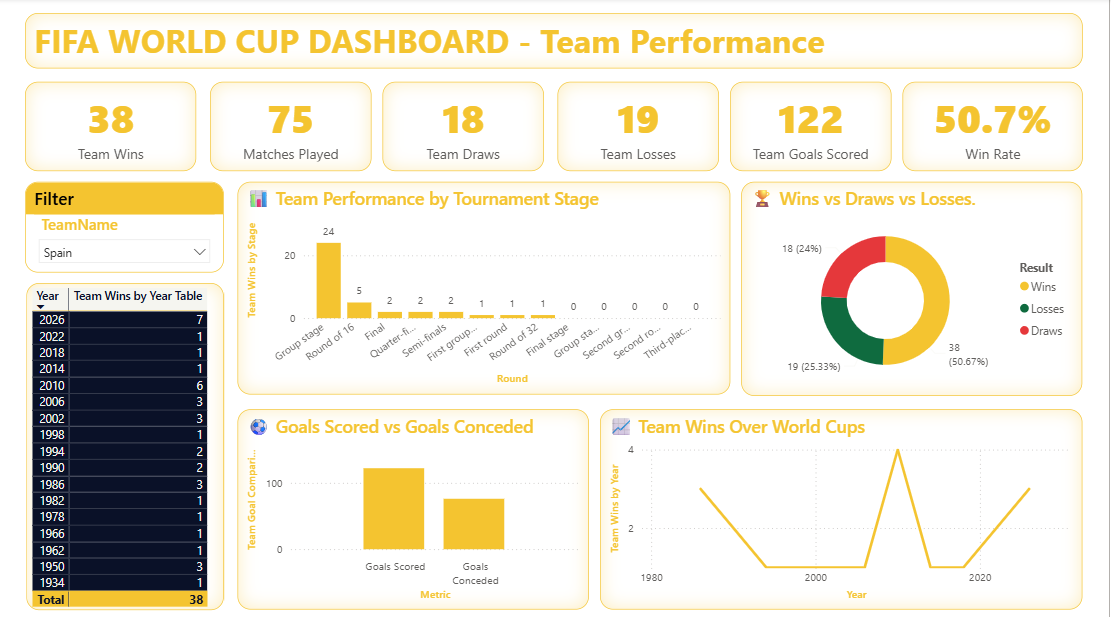

This screenshot's page, from the dashboard's own definition file:
{"tool":"powerbi","page":{"name":"Team Performance Analysis","canvas":[1280,720],"ordinal":1},"visuals":[{"type":"slicer","title":"Filter","fields":{"Values":["DimTeam.TeamName"]},"box":[28.5,211.8,229.6,105],"z":0},{"type":"card","fields":{"Values":["DimReferee.Matches Played"]},"box":[242,96,186,103],"z":1000},{"type":"card","fields":{"Values":["DimReferee.Team Wins"]},"box":[28.5,96.1,197.6,103.2],"z":2000},{"type":"card","fields":{"Values":["DimReferee.Team Draws"]},"box":[442,96,186,103],"z":3000},{"type":"card","fields":{"Values":["DimReferee.Team Losses"]},"box":[642.8,96,186,103],"z":4000},{"type":"card","fields":{"Values":["DimReferee.Team Goals Scored"]},"box":[842,96,186,103],"z":5000},{"type":"card","fields":{"Values":["DimReferee.Win Rate"]},"box":[1041.2,96.1,208.2,103],"z":6000},{"type":"lineChart","title":"📈 Team Wins Over World Cups","fields":{"Category":["DimWorldCup.Year"],"Y":["DimReferee.Team Wins by Year"]},"box":[692.3,475.2,557.1,231.4],"z":7000},{"type":"donutChart","title":"🏆 Wins vs Draws vs Losses.","fields":{"Category":["Result.Result"],"Y":["DimReferee.Team Result Count"]},"box":[856.1,211.8,393.3,247.4],"z":8000},{"type":"clusteredColumnChart","title":"⚽ Goals Scored vs Goals Conceded","fields":{"Category":["Metric.Metric"],"Y":["DimReferee.Team Goal Comparison"]},"box":[274.1,475.2,405.8,231.4],"z":9000},{"type":"clusteredColumnChart","title":"📊 Team Performance by Tournament Stage","fields":{"Category":["FactMatch.Round"],"Y":["DimReferee.Team Wins by Stage"]},"box":[274.1,211.8,567.8,245.6],"z":10000},{"type":"tableEx","fields":{"Values":["DimWorldCup.Year","DimReferee.Team Wins by Year Table"]},"box":[30.3,329.3,227.8,377.3],"z":11000},{"type":"textbox","title":"FIFA WORLD CUP DASHBOARD - Team Performance","box":[28.5,17.8,1220.9,64.1],"z":12000}]}

Visuals, with their boxes in screenshot pixels (x1, y1, x2, y2), scaled from the page's 1280x720 canvas onto the 1111x617 screenshot:
"Filter" slicer: 25 182 224 271
card - DimReferee.Matches Played: 210 82 371 171
card - DimReferee.Team Wins: 25 82 196 171
card - DimReferee.Team Draws: 384 82 545 171
card - DimReferee.Team Losses: 558 82 719 171
card - DimReferee.Team Goals Scored: 731 82 892 171
card - DimReferee.Win Rate: 904 82 1084 171
"📈 Team Wins Over World Cups" lineChart: 601 407 1084 606
"🏆 Wins vs Draws vs Losses." donutChart: 743 182 1084 394
"⚽ Goals Scored vs Goals Conceded" clusteredColumnChart: 238 407 590 606
"📊 Team Performance by Tournament Stage" clusteredColumnChart: 238 182 731 392
tableEx - DimWorldCup.Year x DimReferee.Team Wins by Year Table: 26 282 224 606
"FIFA WORLD CUP DASHBOARD - Team Performance" textbox: 25 15 1084 70
